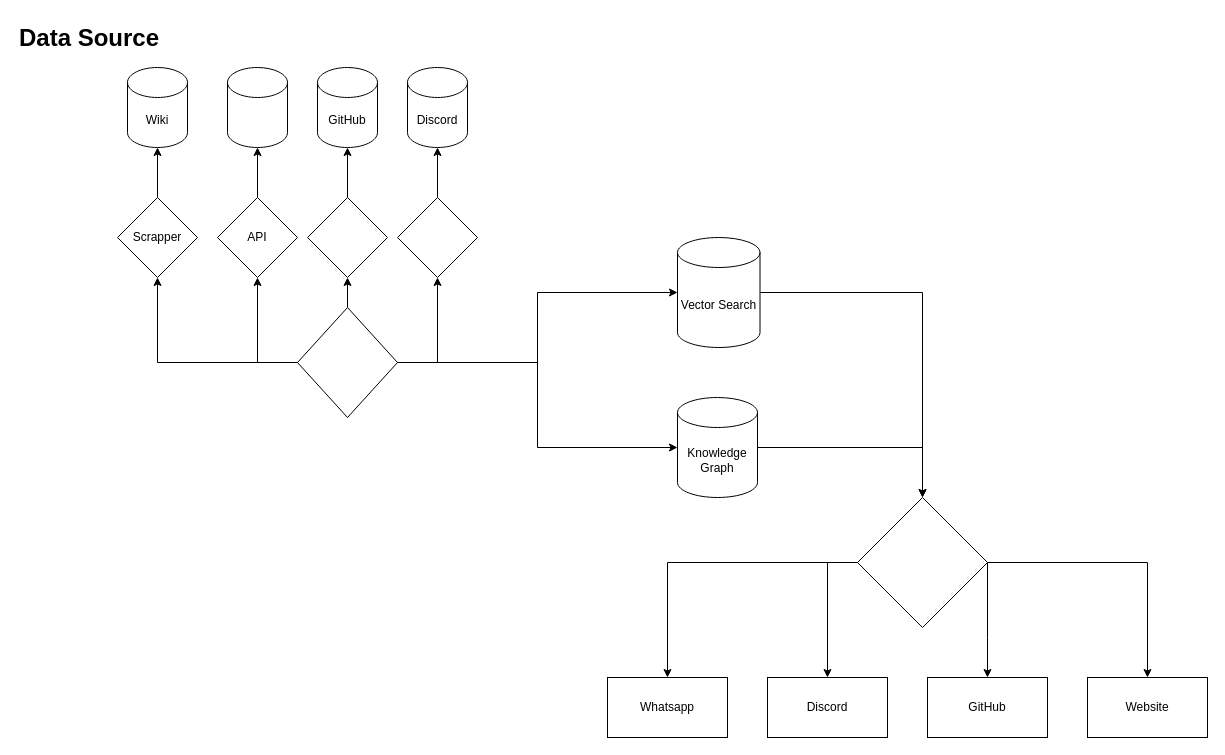
This 1225x755 diagram has some shape labels left out. The shapes that lost their labels are listed below. From the top down, each one's centre as x and y in pixels, then its label:
(257,107): Portal
(347,237): GitHub App
(437,237): Discord Bot
(347,362): Summarizer Agent
(922,562): Assistant (Search Engine)
